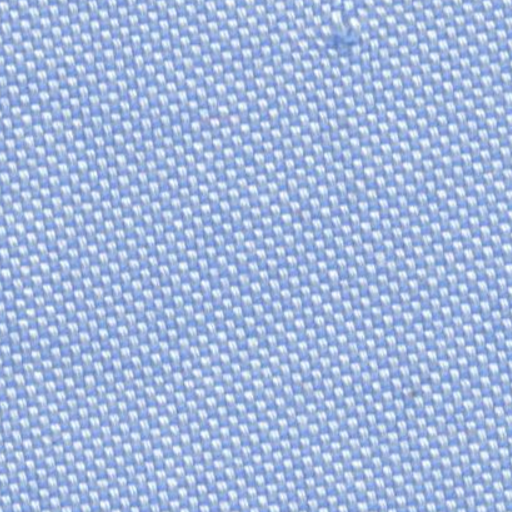PoDong: (304, 10, 384, 60)
